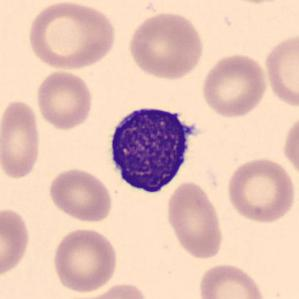Lymphocyte: (102, 97, 199, 199)
RBC: (24, 0, 118, 71), (125, 10, 206, 82), (224, 155, 297, 225), (164, 178, 226, 260), (200, 51, 270, 120), (50, 226, 120, 294), (33, 68, 96, 131), (45, 167, 114, 224), (0, 96, 43, 181), (262, 31, 298, 110), (196, 261, 268, 299), (0, 204, 32, 280), (66, 281, 152, 299), (281, 111, 299, 181), (220, 0, 293, 6)
